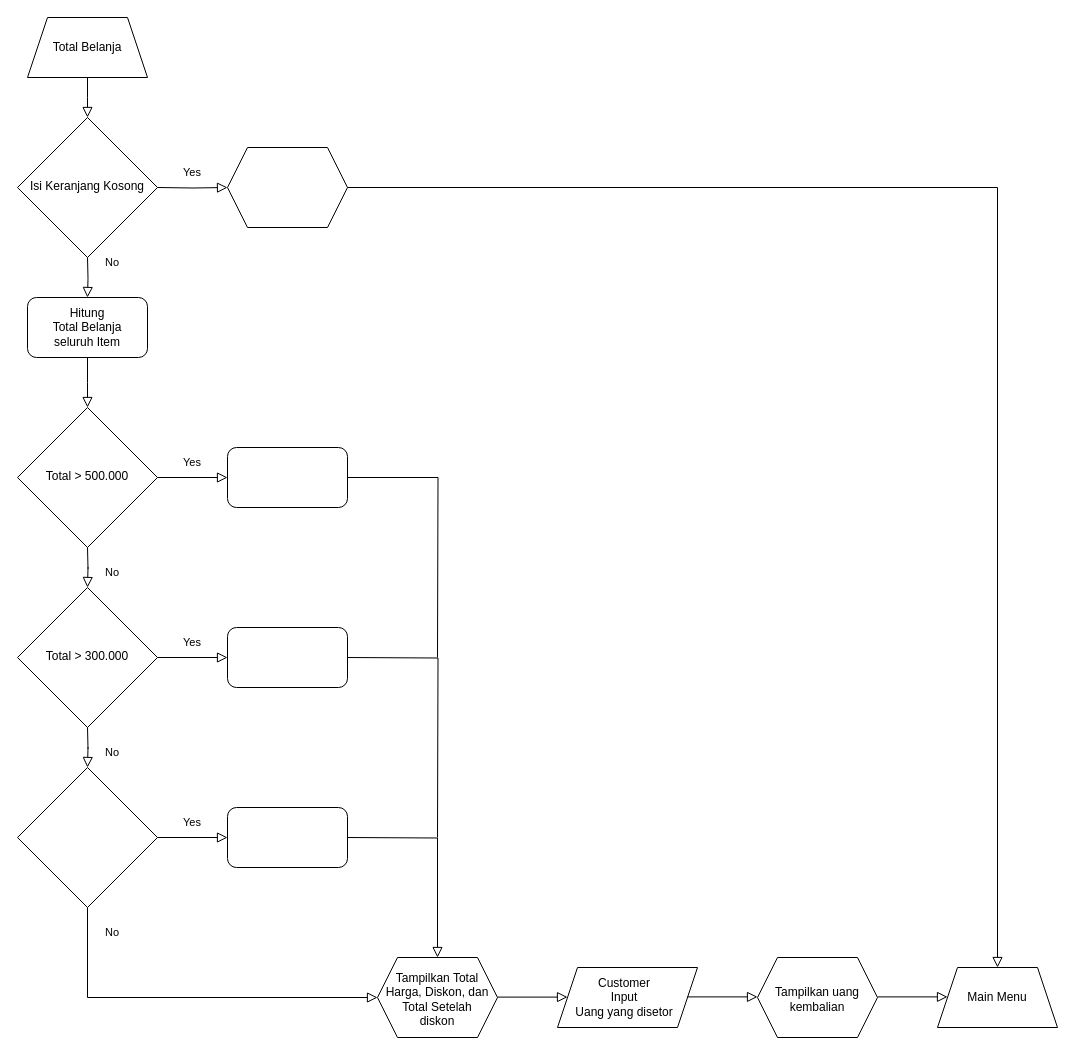
Image size: 1075x1055. Some labels were removed from this diagram. The shapes that lost their labels are listed below. From the top down, each one's centre as x and y in pixels, then its label:
At point (287, 187): "Tampilkan pesan Keranjang Kosong".
At point (287, 477): "Hitung Total Belanja seluruh Item dengan diskon 10%".
At point (287, 657): "Hitung Total Belanja seluruh Item dengan diskon 8%".
At point (87, 837): "Total > 200.000".
At point (287, 837): "Hitung Total Belanja seluruh Item dengan diskon 5%".
